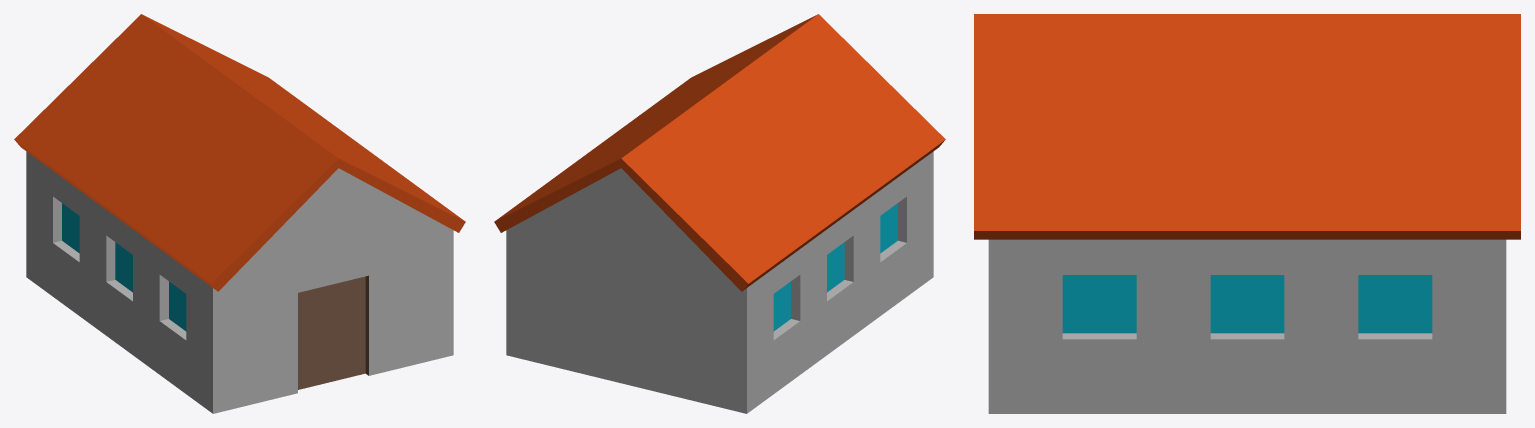
File: smallHouse.fbx
3 views of the same model, side by side, from view 1: azimuth 30°, elevation 25°; view 2: azimuth 150°, elevation 25°; view 3: azimuth 270°, elevation 25° (orthographic). The views are drawn at different scales.
Parts seen in each view (by area): view 1: Cube.001; view 2: Cube.001; view 3: Cube.001.
Part boxes in pixels (x1=…): Cube.001: x1=14, y1=14, x2=465, y2=413; Cube.001: x1=494, y1=14, x2=945, y2=413; Cube.001: x1=974, y1=14, x2=1520, y2=413.
Size of the model in its own units: 211 by 183 by 284.
